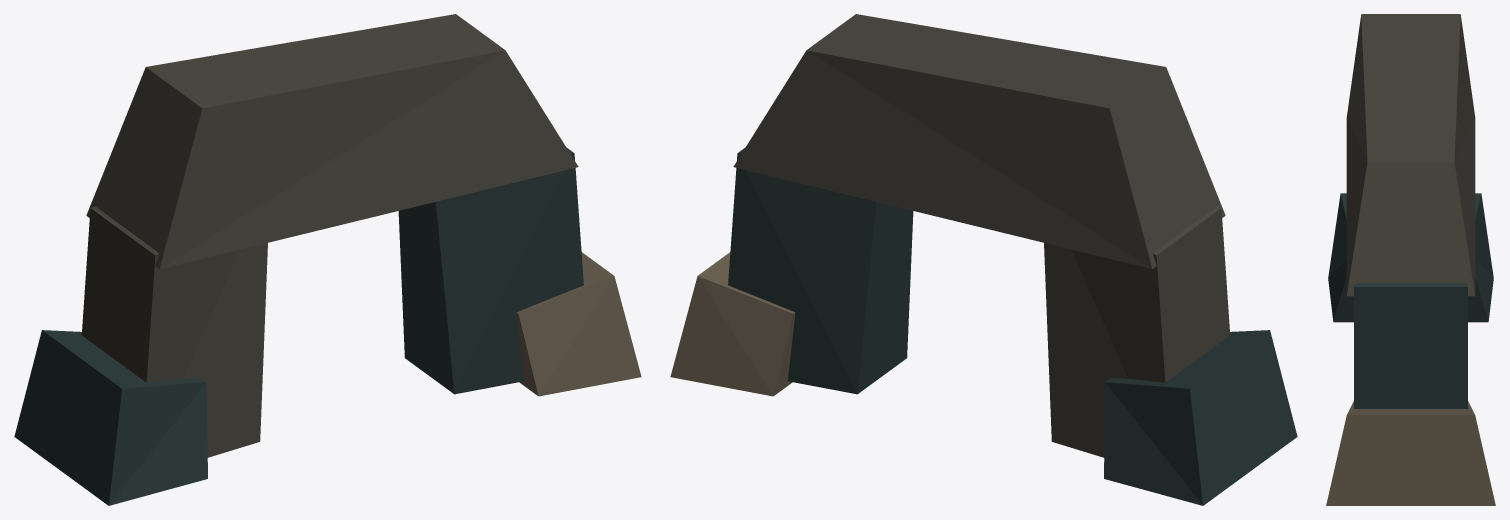
Rendered from cueva_portal.obj.
3 renders of one model, left to right at view 1: azimuth 30°, elevation 25°; view 2: azimuth 150°, elevation 25°; view 3: azimuth 270°, elevation 25°, orthographic. The views are drawn at different scales.
Parts seen in each view (by area): view 1: visera, jamba_derecha, jamba_izquierda, roca_frontal_izq, roca_frontal_der; view 2: visera, jamba_derecha, jamba_izquierda, roca_frontal_izq, roca_frontal_der; view 3: visera, roca_frontal_der, jamba_derecha, roca_frontal_izq.
Boxes of the visible parts, <box> form: visera: <box>86,14,578,269</box>; jamba_derecha: <box>398,147,583,394</box>; jamba_izquierda: <box>81,206,267,457</box>; roca_frontal_izq: <box>14,330,207,505</box>; roca_frontal_der: <box>516,252,641,396</box>; visera: <box>733,14,1225,269</box>; jamba_derecha: <box>728,147,913,394</box>; jamba_izquierda: <box>1044,206,1230,457</box>; roca_frontal_izq: <box>1104,330,1297,505</box>; roca_frontal_der: <box>670,252,795,396</box>; visera: <box>1346,14,1475,296</box>; roca_frontal_der: <box>1326,401,1495,505</box>; jamba_derecha: <box>1354,283,1467,408</box>; roca_frontal_izq: <box>1328,193,1493,322</box>.
Size of the model in its own units: 5.2 by 3.33 by 1.64.
